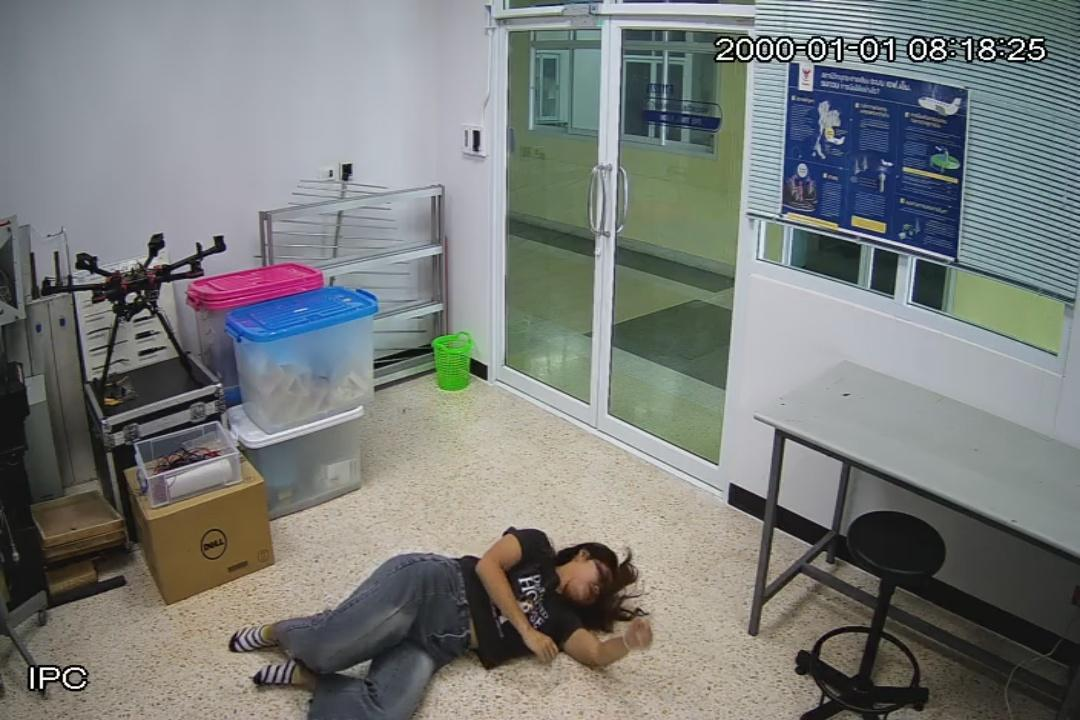fall: (227, 517, 653, 717)
